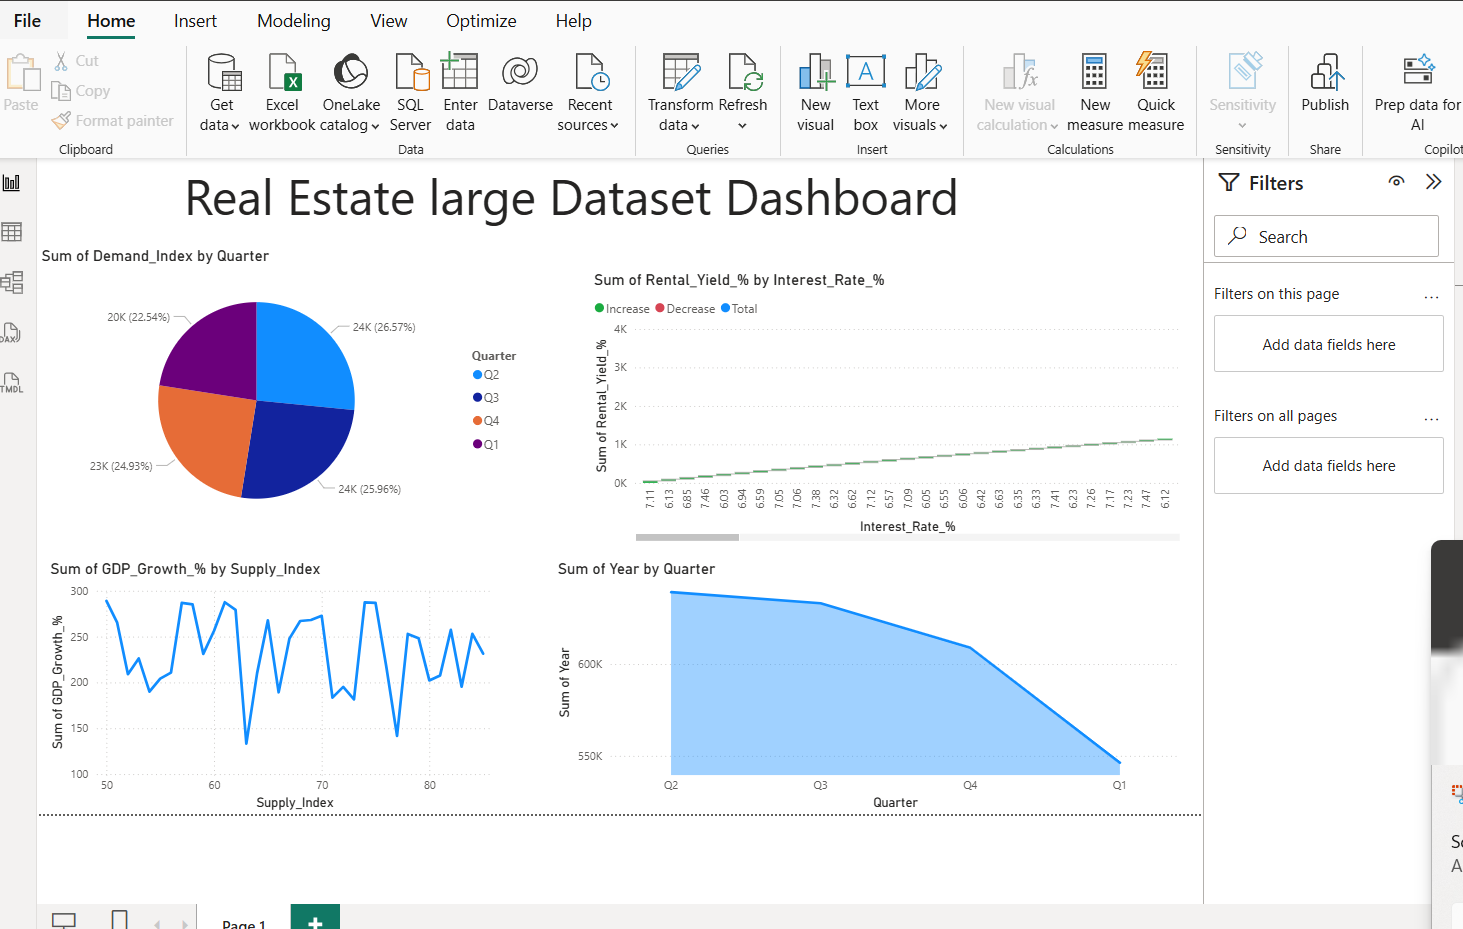

What the dashboard file says about the page in this screenshot:
{"tool":"powerbi","page":{"name":"Page 1","canvas":[1280,720],"ordinal":0},"visuals":[{"type":"pieChart","fields":{"Category":["RealEstateLargeData.Quarter"],"Y":["Sum(RealEstateLargeData.Demand_Index)"]},"box":[0,97.4,550.3,317],"z":0},{"type":"lineChart","fields":{"Category":["RealEstateLargeData.Supply_Index"],"Y":["Sum(RealEstateLargeData.GDP_Growth_%)"]},"box":[9.6,440.5,495.4,279.9],"z":1000},{"type":"waterfallChart","fields":{"Category":["RealEstateLargeData.Interest_Rate_%"],"Y":["Sum(RealEstateLargeData.Rental_Yield_%)"]},"box":[606.5,123.5,653.2,301.9],"z":2000},{"type":"stackedAreaChart","fields":{"Category":["RealEstateLargeData.Quarter"],"Y":["Sum(RealEstateLargeData.Year)"]},"box":[566.7,440.5,693,279.9],"z":3000},{"type":"textbox","box":[156.4,0,1053.9,82.3],"z":4000}]}

Visuals, with their boxes on the page's 1280x720 design canvas (x1, y1, x2, y2). These are canvas units, not pixel positions in the 1463x929 screenshot, which may show the page scaled, cropped or inside an application window:
pieChart - RealEstateLargeData.Quarter x Sum(RealEstateLargeData.Demand_Index): {"left": 0, "top": 97, "right": 550, "bottom": 414}
lineChart - RealEstateLargeData.Supply_Index x Sum(RealEstateLargeData.GDP_Growth_%): {"left": 10, "top": 440, "right": 505, "bottom": 720}
waterfallChart - RealEstateLargeData.Interest_Rate_% x Sum(RealEstateLargeData.Rental_Yield_%): {"left": 606, "top": 124, "right": 1260, "bottom": 425}
stackedAreaChart - RealEstateLargeData.Quarter x Sum(RealEstateLargeData.Year): {"left": 567, "top": 440, "right": 1260, "bottom": 720}
textbox: {"left": 156, "top": 0, "right": 1210, "bottom": 82}
